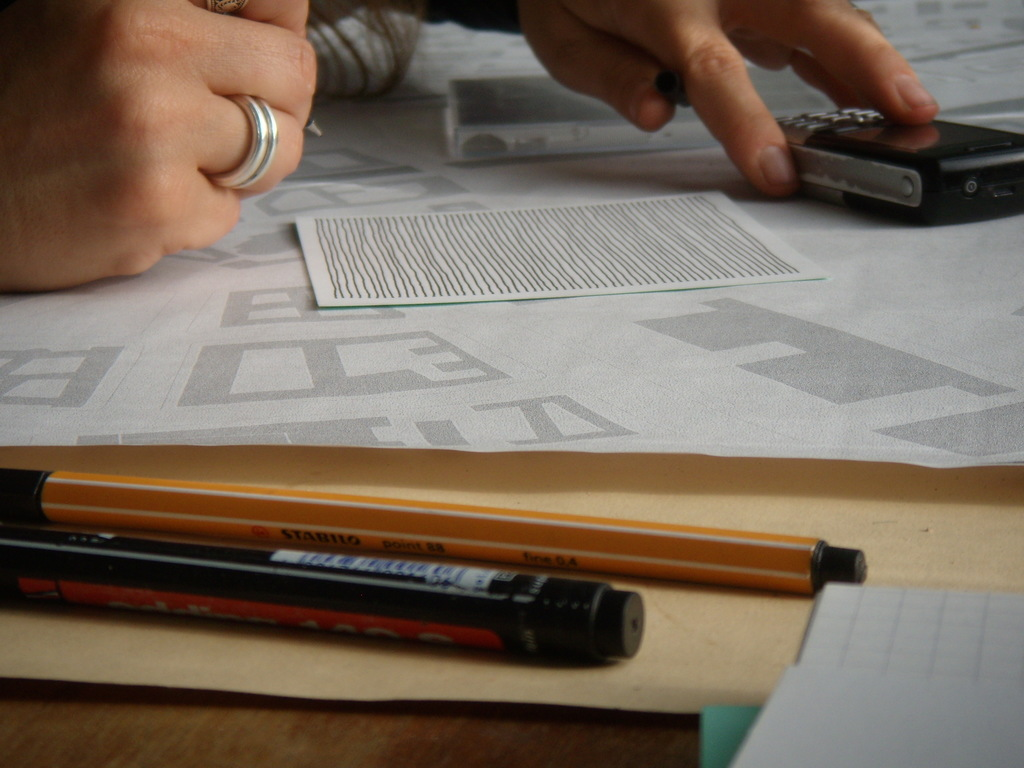Pen: (0, 527, 655, 669)
